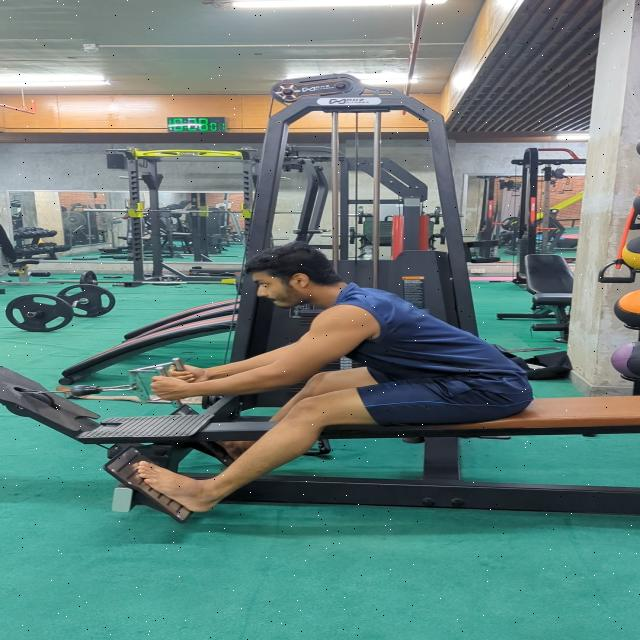Normal_RowingMachineExercise: (132, 240, 536, 515)
